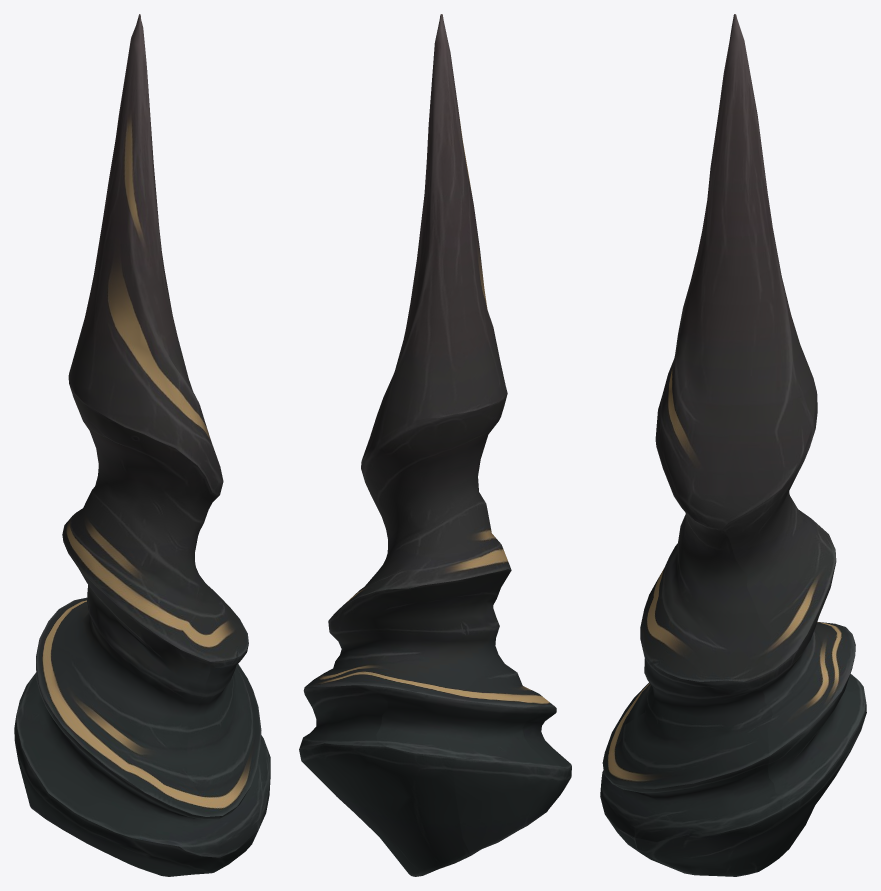
Rendered from small_spike_01_b.glb.
3 views of the same model, side by side, from view 1: azimuth 30°, elevation 25°; view 2: azimuth 150°, elevation 25°; view 3: azimuth 270°, elevation 25° (orthographic).
Visible parts, largest first — view 1: SM_KC_Small_SPIKES_01_B; view 2: SM_KC_Small_SPIKES_01_B; view 3: SM_KC_Small_SPIKES_01_B.
Part boxes in pixels (box(x1,y1,x2,y2)): SM_KC_Small_SPIKES_01_B: box(14, 14, 270, 876); SM_KC_Small_SPIKES_01_B: box(299, 14, 571, 876); SM_KC_Small_SPIKES_01_B: box(600, 14, 866, 876).
Bounding box in the file's own units: 0.5391 × 1.87 × 0.5302.
1 material, 1 textured.
